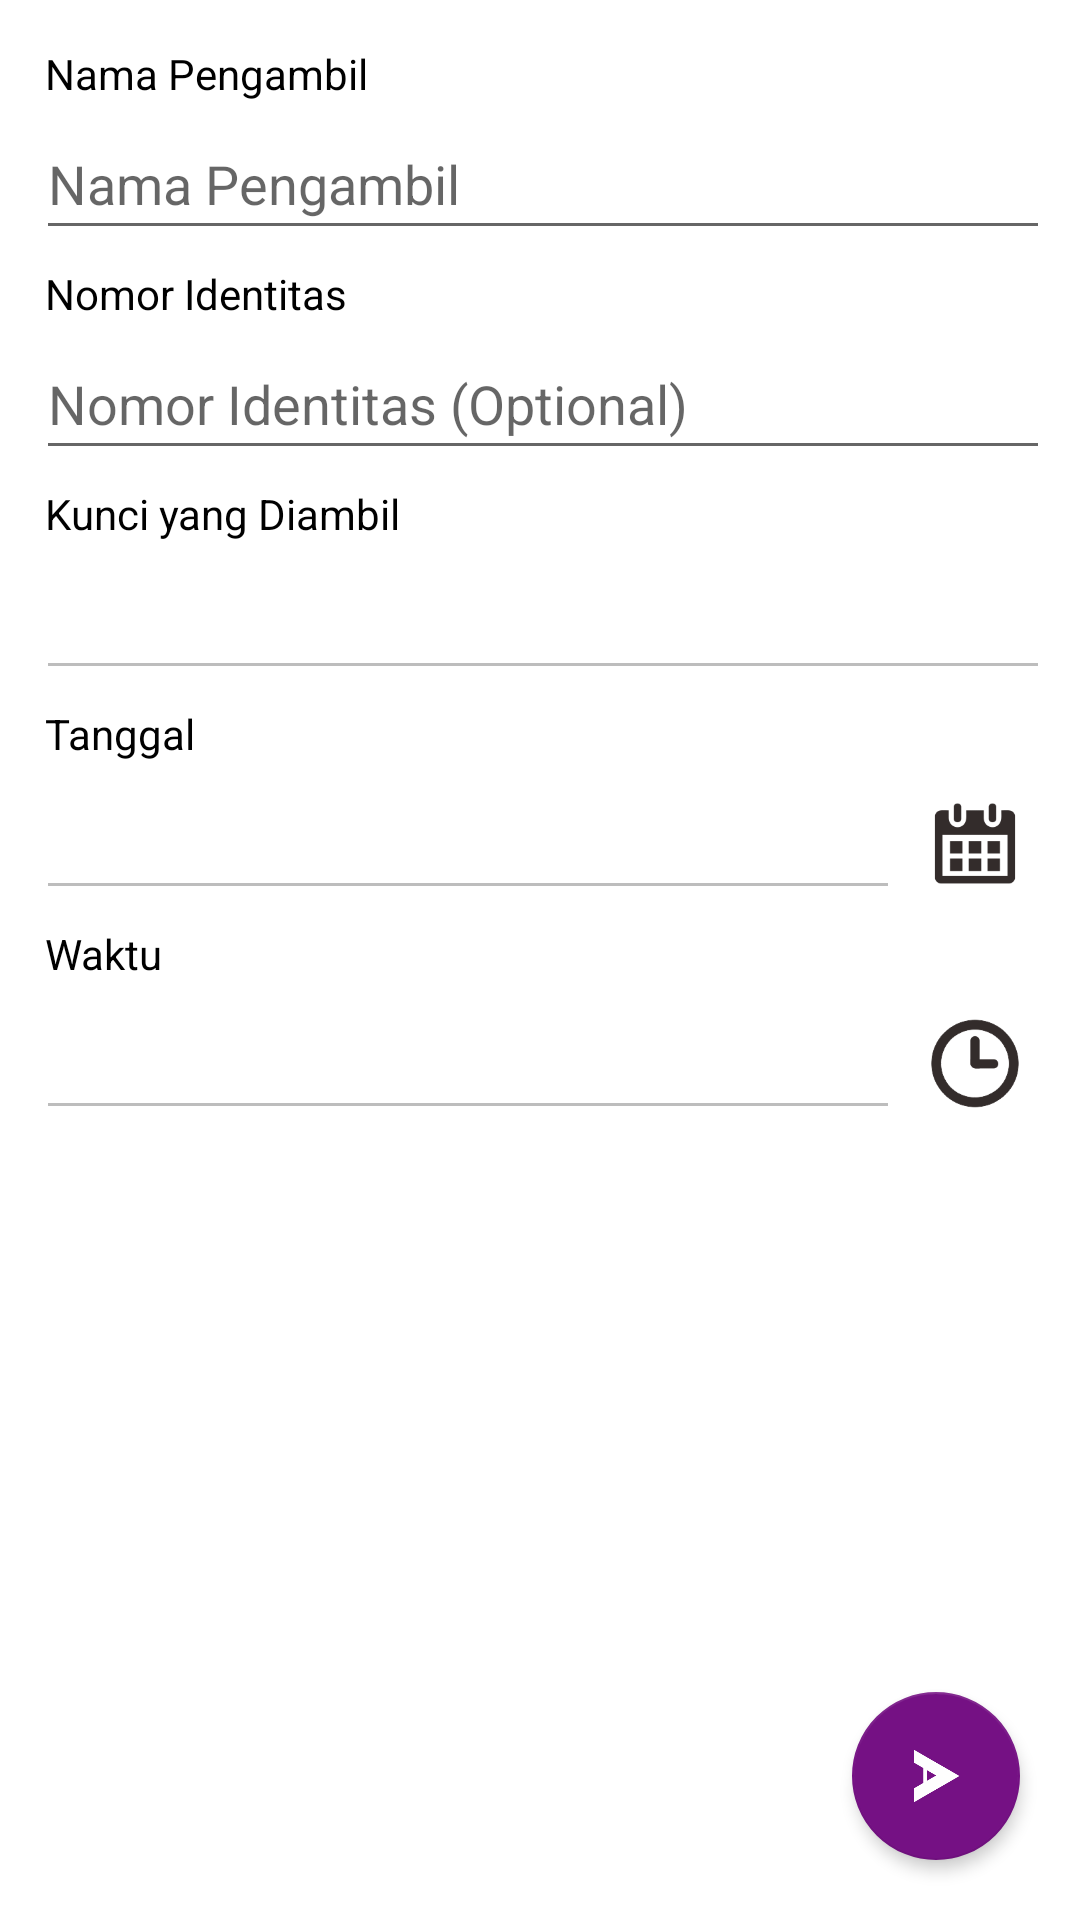

Where to tap for icons on this 1080x1920 app screen, as (x,y):
jam: (975,1063)
kirim putih: (936,1776)
